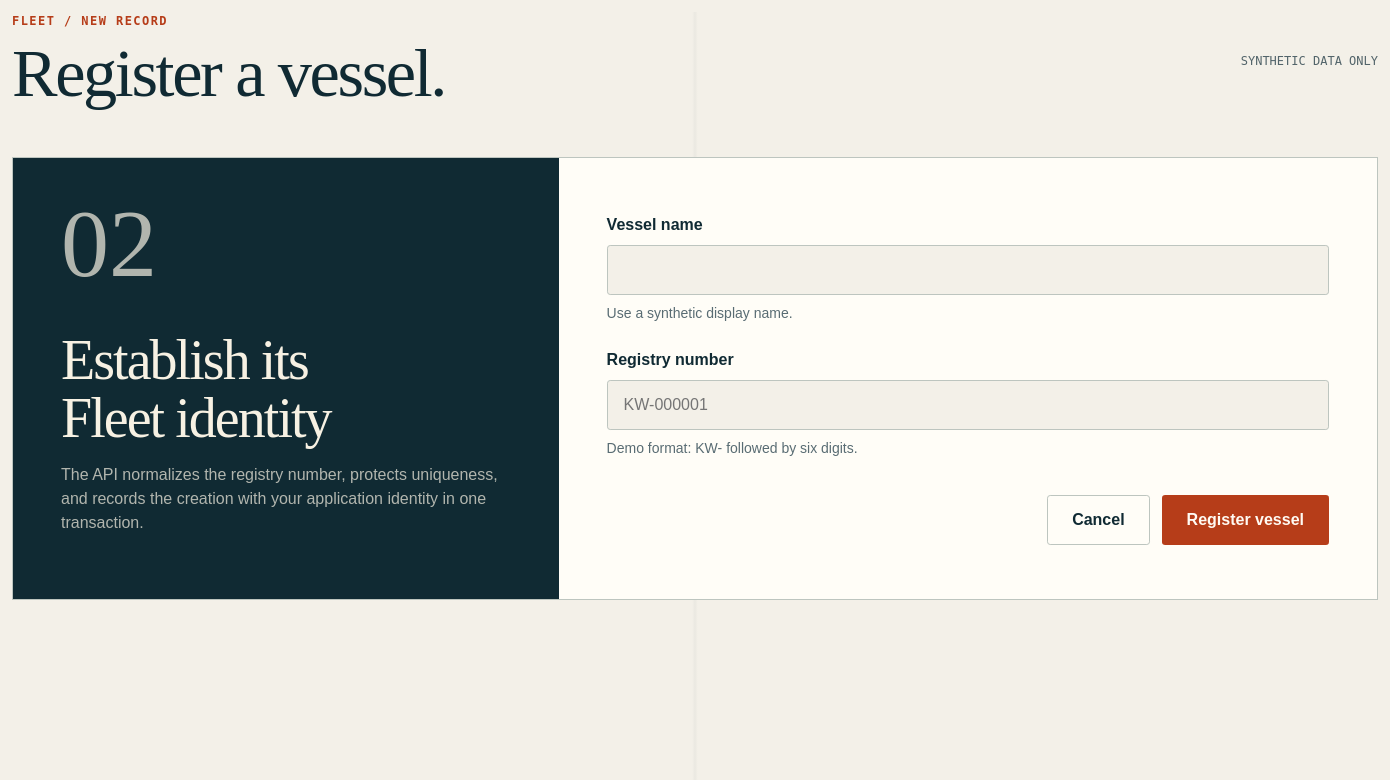
VesselCreatePage › preserves the form and identifies a duplicate registry conflict
Type "MV Northwind" into the field labelled "Vessel name".
click(968, 270); type("MV Northwind")  # box [607,245,1329,295]
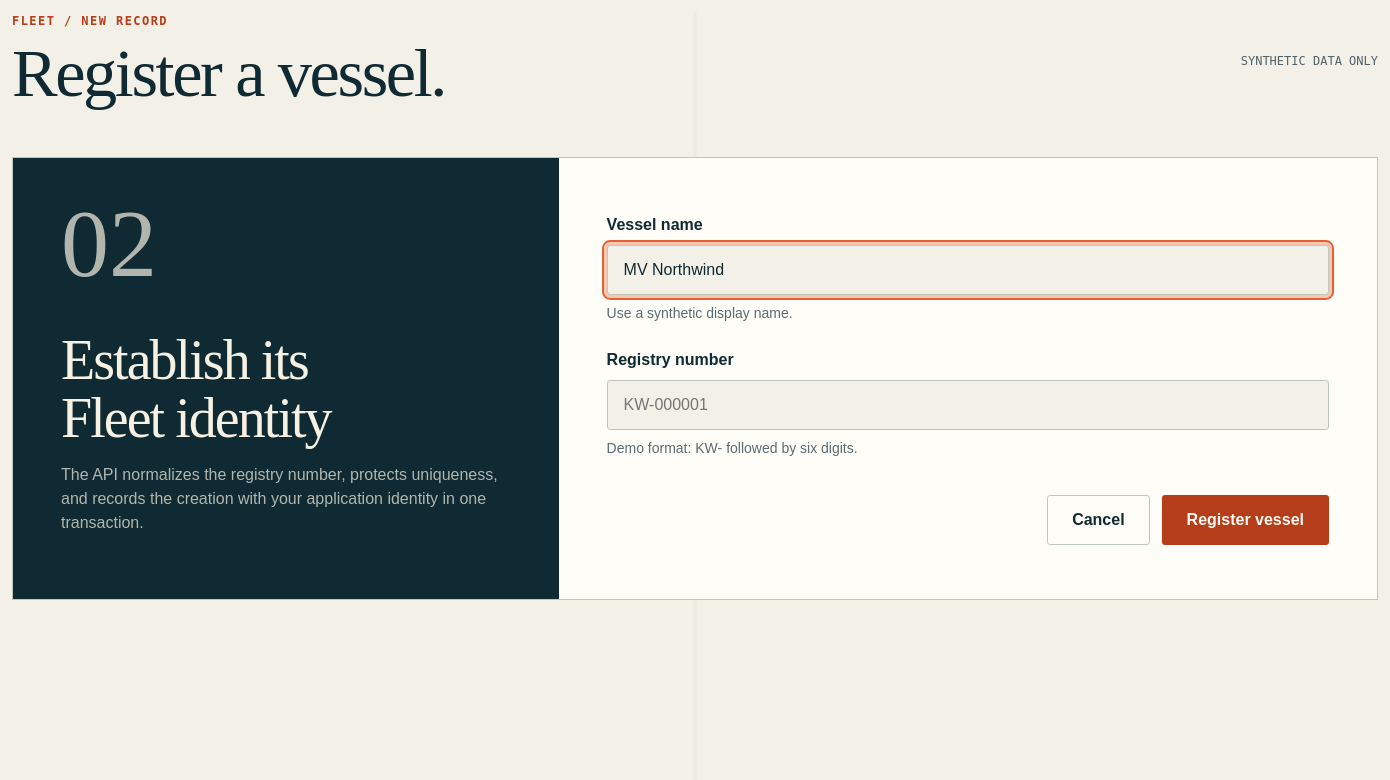
Type "kw-000001" into the field labelled "Registry number".
click(968, 405); type("kw-000001")  # box [607,380,1329,430]
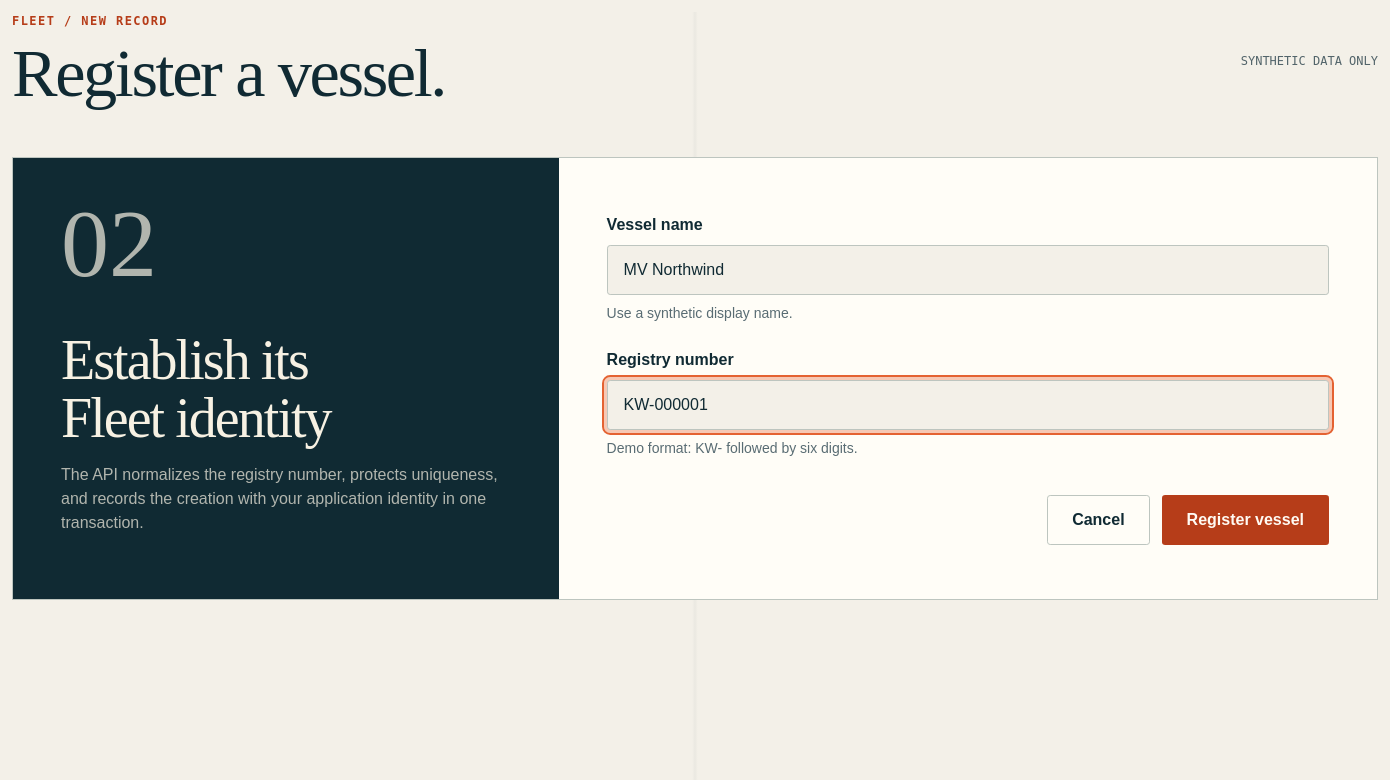
Click the button "Register vessel".
click(1245, 520)  # box [1162,495,1329,545]
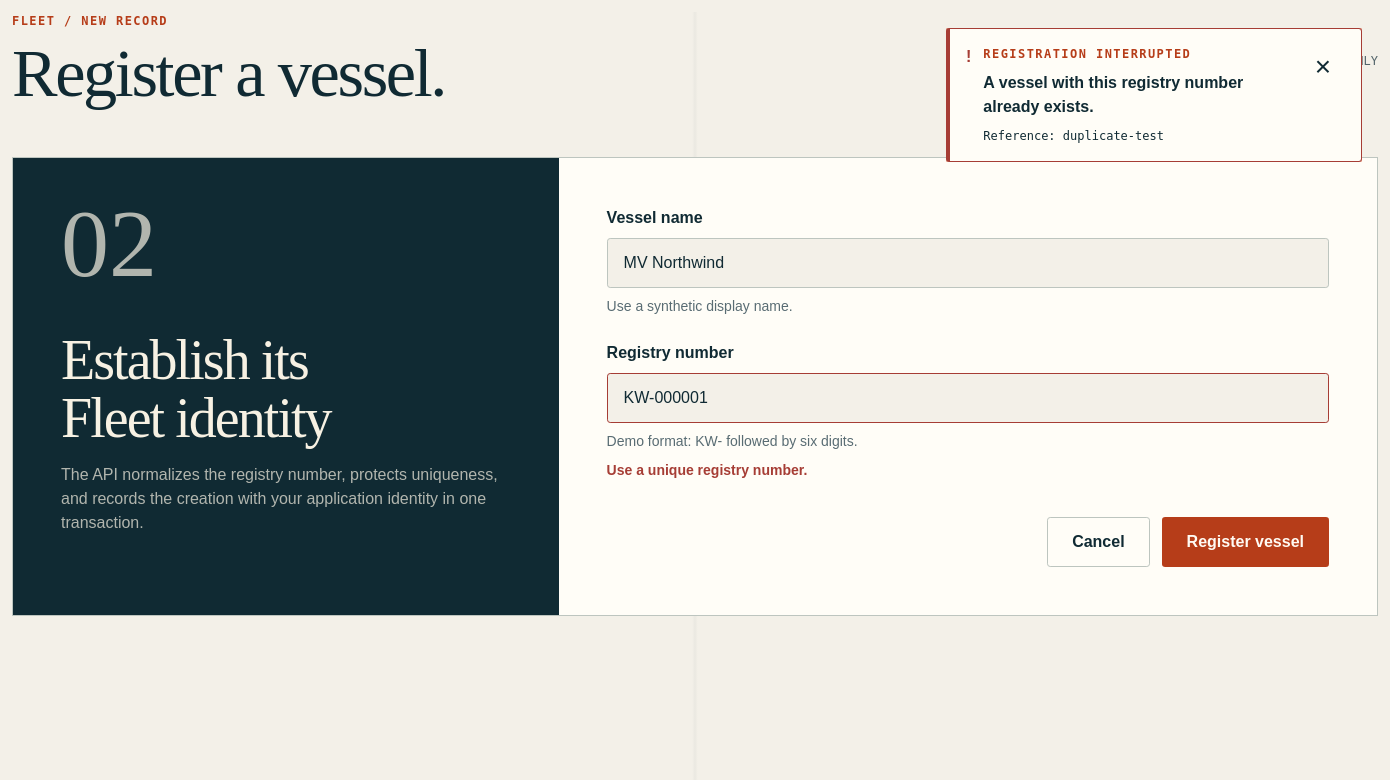
expect the heading "A vessel with this registry number already exists." is shown: met, box [983,71,1289,119]
expect the text "Use a unique registry number." is shown: met, box [607,462,807,478]
